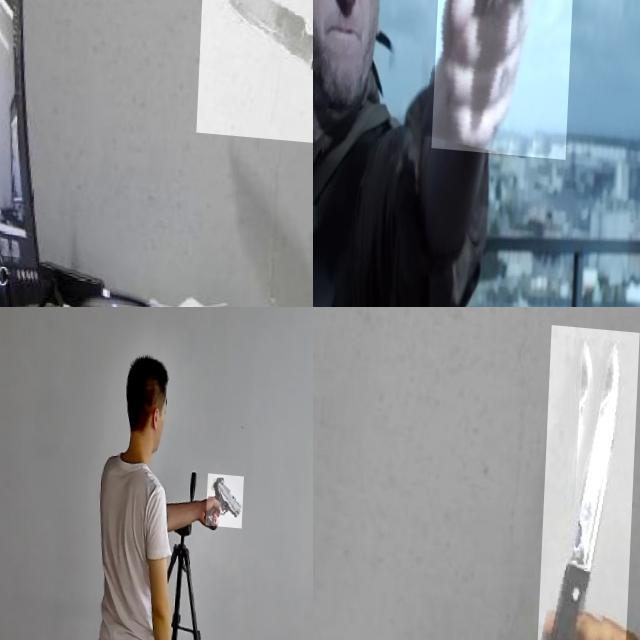-: (537, 318, 640, 640), (200, 0, 313, 145)
gun-knife-thesis - v11 Yolov5 augmented: (434, 0, 581, 176), (208, 467, 246, 522)
